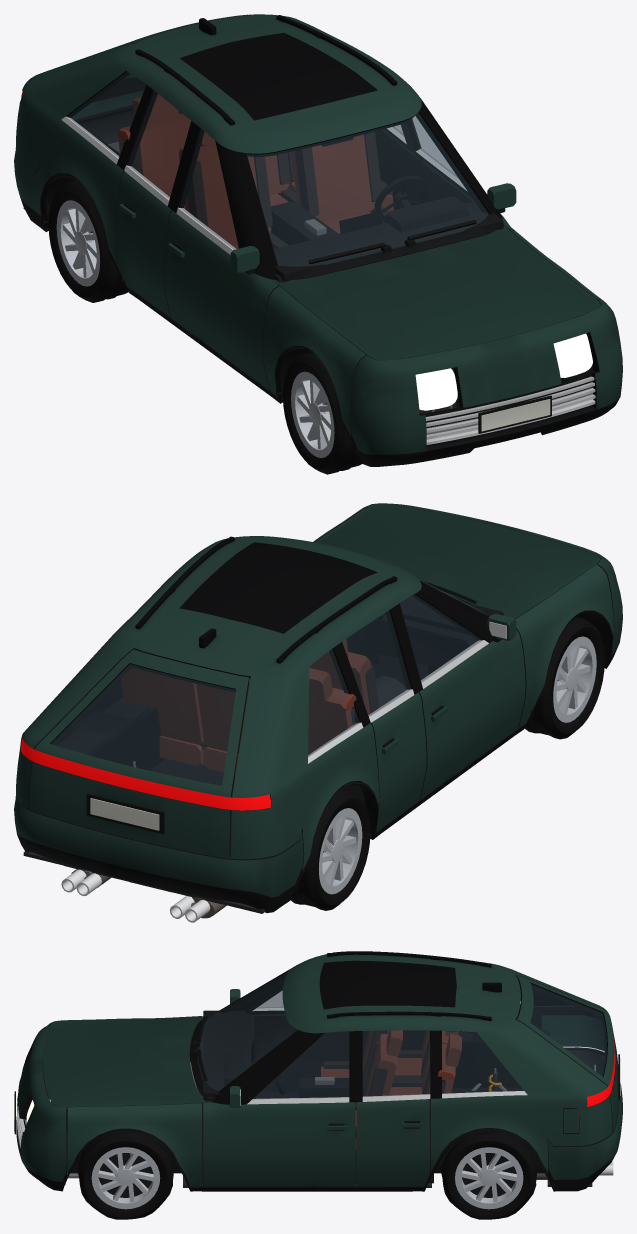
The model's file is genesips_2021.glb.
3 renders of one model, top to bottom at view 1: azimuth 30°, elevation 25°; view 2: azimuth 150°, elevation 25°; view 3: azimuth 270°, elevation 25°, orthographic. The views are drawn at different scales.
Parts seen in each view (by area): view 1: body, glass, interior, trim, bumper_front, bonnet, wheel_fr, wheel_rr, underside, chrome, bumper_rear, headlight_r (+3 smaller); view 2: body, glass, trim, interior, bonnet, bumper_rear, underside, wheel_fr, wheel_rr, taillights, chrome, bumper_front (+1 smaller); view 3: body, glass, interior, trim, bonnet, wheel_fl, wheel_rl, bumper_front, underside, bumper_rear, chrome, taillights.
Part boxes in pixels (x1,y1,x2,y2): body: [15, 14, 601, 436]; glass: [67, 72, 488, 266]; interior: [53, 94, 504, 282]; trim: [20, 14, 602, 441]; bumper_front: [349, 299, 622, 466]; bonnet: [273, 226, 600, 360]; wheel_fr: [282, 351, 362, 474]; wheel_rr: [48, 181, 128, 302]; underside: [23, 110, 593, 453]; chrome: [61, 116, 467, 254]; bumper_rear: [14, 107, 132, 231]; headlight_r: [415, 368, 457, 410]; body: [15, 508, 614, 871]; glass: [51, 579, 485, 785]; trim: [20, 536, 612, 878]; interior: [55, 596, 503, 856]; bonnet: [317, 504, 600, 619]; bumper_rear: [14, 797, 303, 912]; underside: [23, 611, 611, 918]; wheel_fr: [524, 617, 604, 739]; wheel_rr: [290, 789, 370, 910]; taillights: [20, 738, 271, 810]; chrome: [61, 640, 488, 922]; bumper_front: [361, 503, 622, 668]; body: [67, 954, 618, 1186]; glass: [198, 972, 606, 1098]; interior: [189, 979, 601, 1183]; trim: [45, 951, 620, 1191]; bonnet: [43, 1016, 212, 1109]; wheel_fl: [78, 1129, 173, 1219]; wheel_rl: [441, 1130, 536, 1219]; bumper_front: [14, 1020, 68, 1191]; underside: [24, 1033, 604, 1191]; bumper_rear: [547, 1047, 622, 1191]; chrome: [247, 1001, 613, 1175]; taillights: [587, 1038, 615, 1107].
Bounding box in the file's own units: 2.03 × 1.72 × 4.96.
